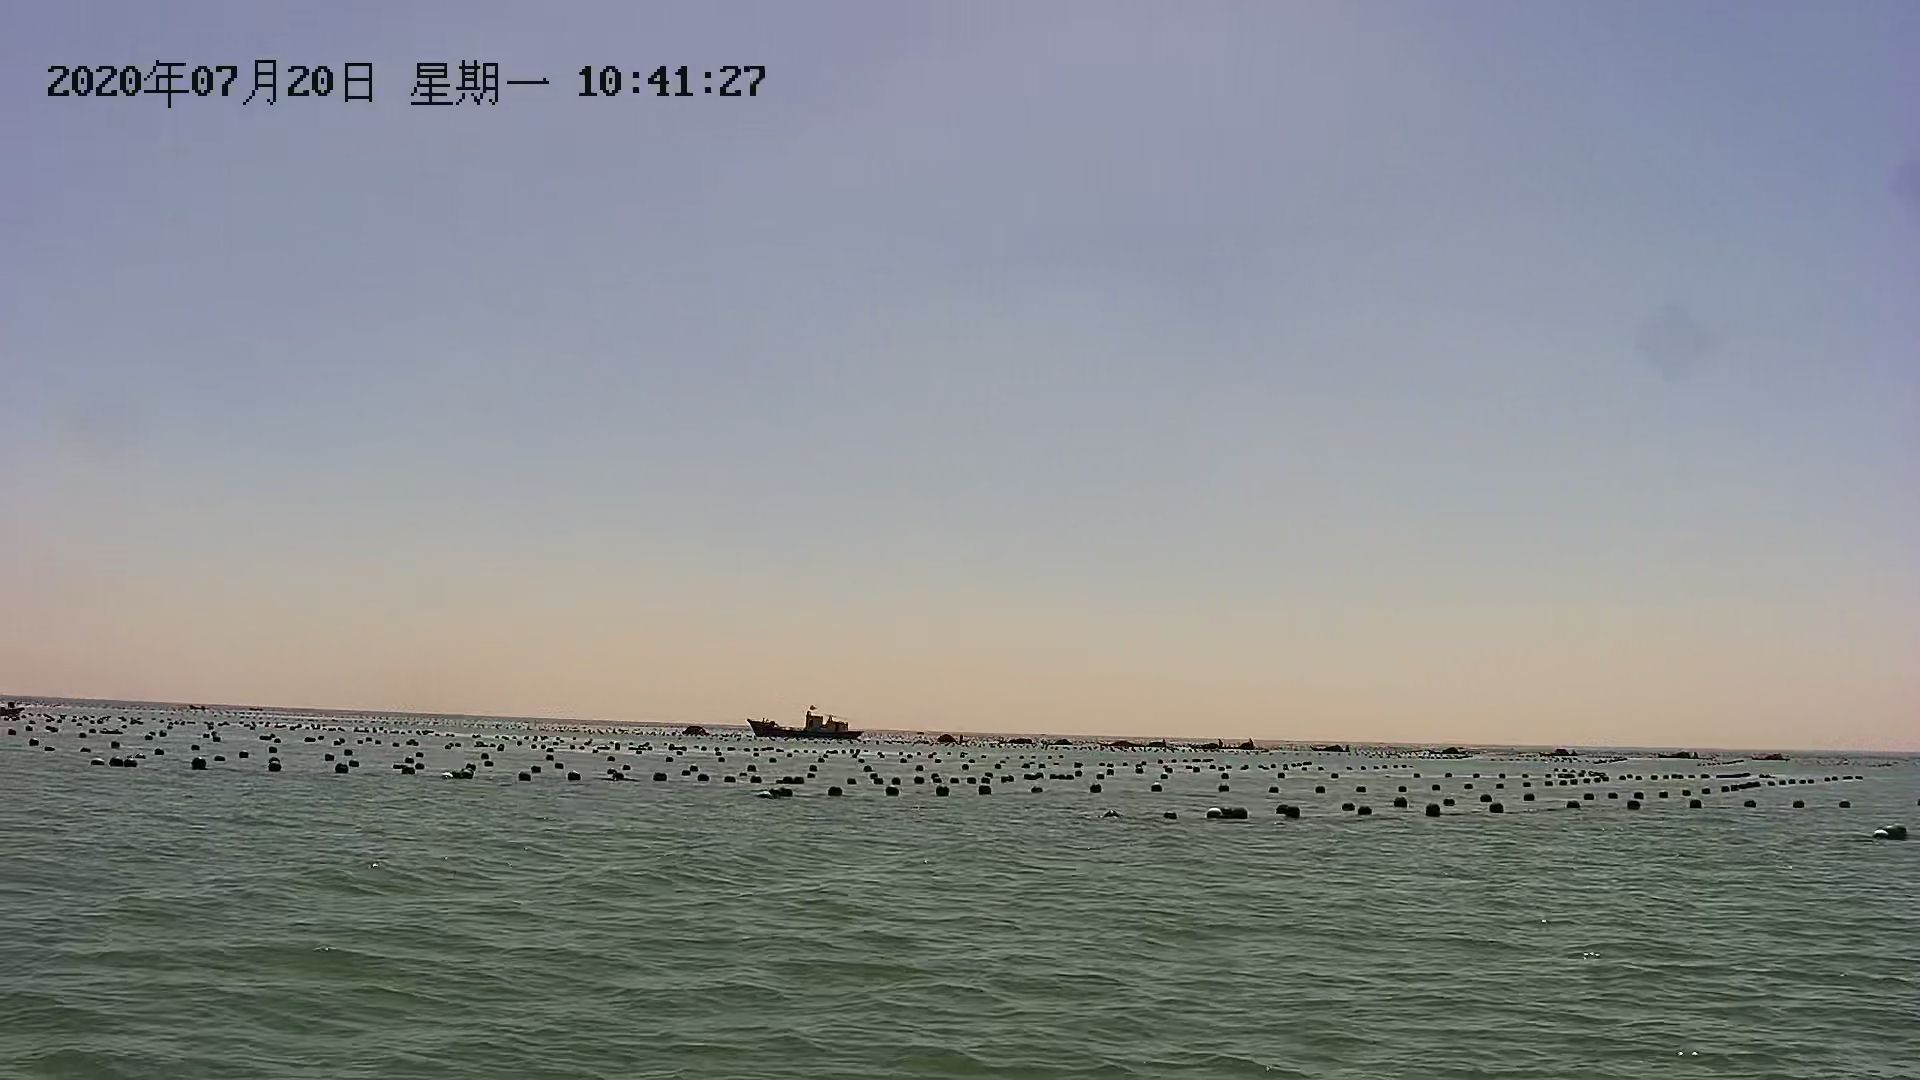ball: (1884, 820, 1913, 848), (1283, 802, 1307, 827), (1199, 803, 1224, 825), (330, 761, 355, 781), (650, 767, 673, 789), (1487, 800, 1511, 820), (824, 783, 845, 803), (190, 756, 210, 775), (564, 767, 587, 785), (934, 783, 953, 802), (1425, 800, 1443, 820), (886, 785, 902, 800)
ship: (745, 707, 866, 744)
